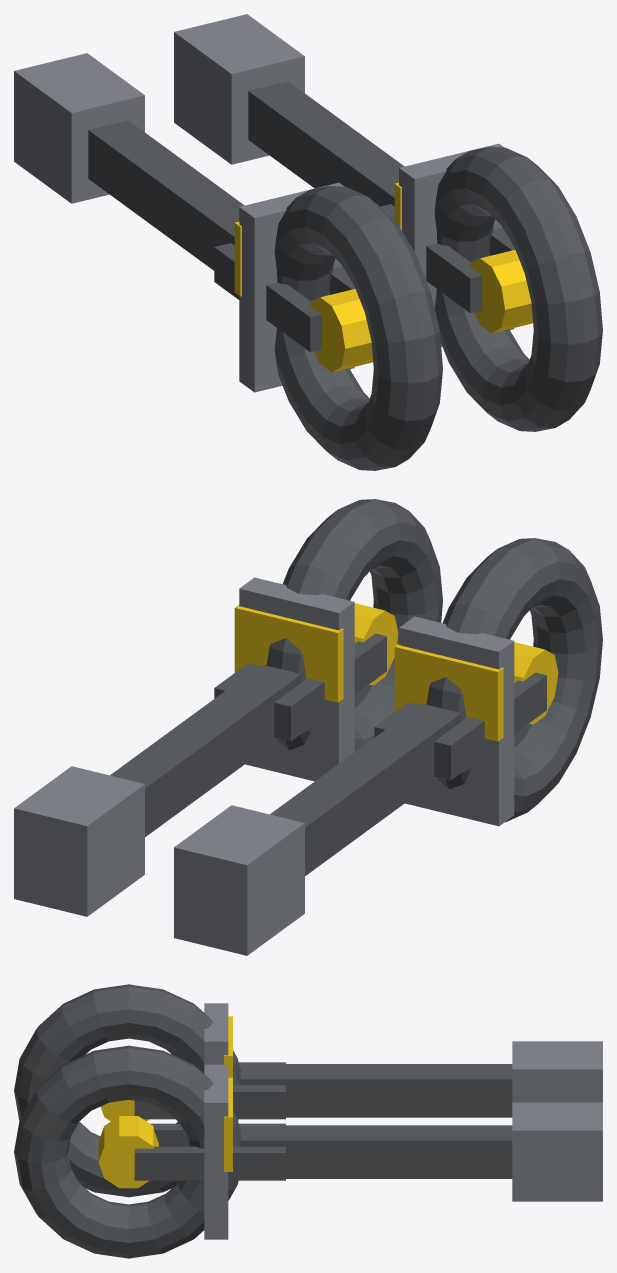
Rendered from legs-roadster.glb.
3 renders of one model, top to bottom at view 1: azimuth 30°, elevation 25°; view 2: azimuth 150°, elevation 25°; view 3: azimuth 270°, elevation 25°, orthographic. The views are drawn at different scales.
Parts seen in each view (by area): view 1: wheel_-1, wheel_1, hip_-1, hip_1, strut_-1, strut_1, fender_-1, fender_1, hub_-1, hub_1, fork_in_-1, fork_in_1; view 2: wheel_-1, wheel_1, hip_1, hip_-1, strut_1, strut_-1, fender_-1, fender_1, fendertrim_-1, fendertrim_1, fork_in_1, fork_in_-1 (+2 smaller); view 3: wheel_1, wheel_-1, strut_1, strut_-1, hip_1, hip_-1, fork_out_1, fender_1, hub_1, fork_out_-1, fender_-1, fork_in_1 (+2 smaller).
Part boxes in pixels (x1,y1,x2,y2): wheel_-1: (274, 186, 442, 470); wheel_1: (434, 147, 602, 431); hip_-1: (14, 53, 144, 203); hip_1: (174, 14, 304, 164); strut_-1: (88, 120, 244, 270); strut_1: (248, 81, 404, 206); fender_-1: (239, 182, 354, 392); fender_1: (399, 143, 514, 346); hub_-1: (310, 288, 373, 372); hub_1: (470, 250, 532, 333); fork_in_-1: (214, 243, 321, 352); fork_in_1: (380, 204, 481, 313); wheel_-1: (426, 538, 602, 822); wheel_1: (266, 499, 442, 751); hip_1: (14, 766, 144, 916); hip_-1: (174, 805, 304, 955); strut_1: (110, 664, 301, 836); strut_-1: (270, 703, 461, 875); fender_-1: (399, 616, 514, 826); fender_1: (239, 577, 354, 781); fendertrim_-1: (394, 644, 503, 741); fendertrim_1: (234, 605, 343, 702); fork_in_1: (274, 633, 386, 741); fork_in_-1: (434, 672, 546, 780); wheel_1: (14, 1045, 240, 1258); wheel_-1: (14, 984, 240, 1197); strut_1: (240, 1125, 512, 1178); strut_-1: (240, 1064, 512, 1117); hip_1: (512, 1102, 602, 1201); hip_-1: (512, 1041, 602, 1102); fork_out_1: (134, 1146, 285, 1180); fender_1: (204, 1064, 228, 1239); hub_1: (98, 1116, 158, 1188); fork_out_-1: (134, 1085, 285, 1119); fender_-1: (204, 1003, 228, 1064); fork_in_1: (150, 1123, 285, 1146).
Size of the model in its own units: 0.79 by 0.76 by 1.95.
